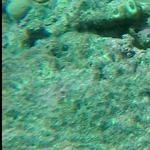dead: (12, 32, 146, 147)
